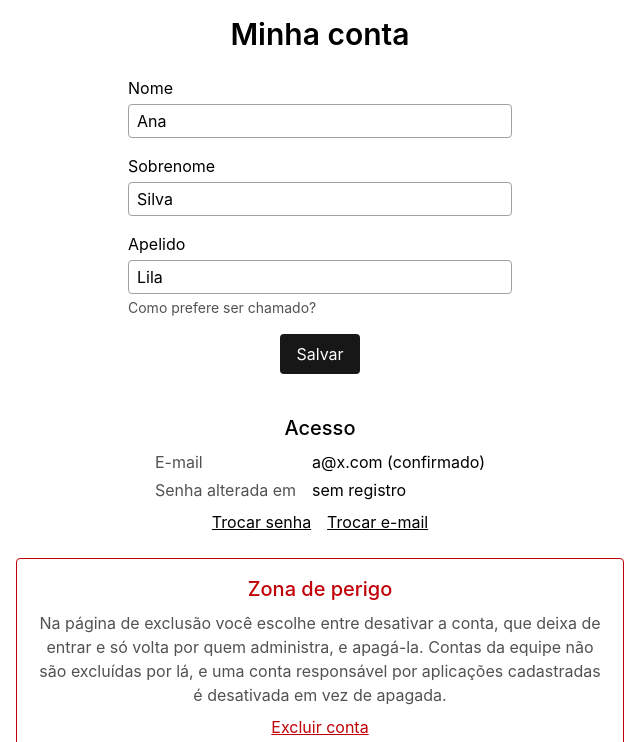
Test: Conta: formulário › T-04) com 200 os inputs mostram o corpo da resposta, e digitar apaga 'Alterações salvas.'
Expected: the heading "Minha conta" is shown, [230,16,410,52]
Replace the text in the field labelled "Nome" with "Digitado". click: x=320, y=121
box: [128,104,512,138]
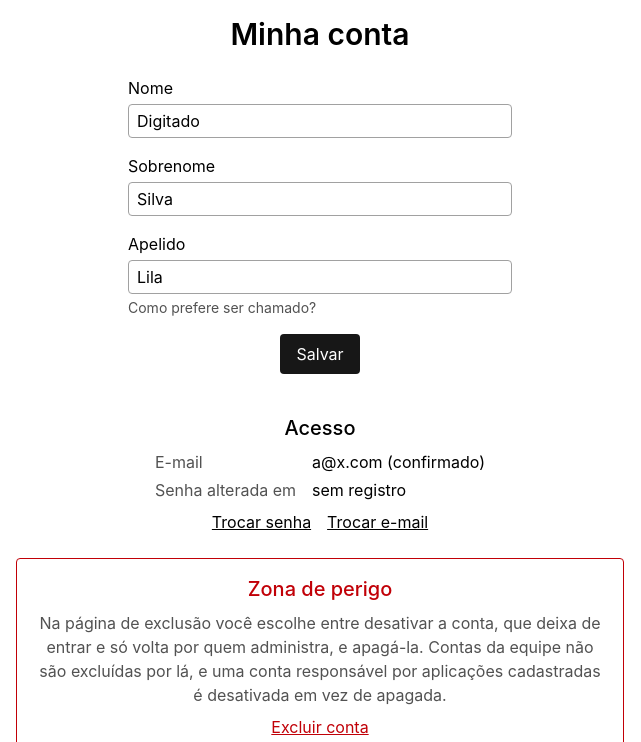
Click the button "Salvar". click: x=320, y=354
box: [280,334,360,374]
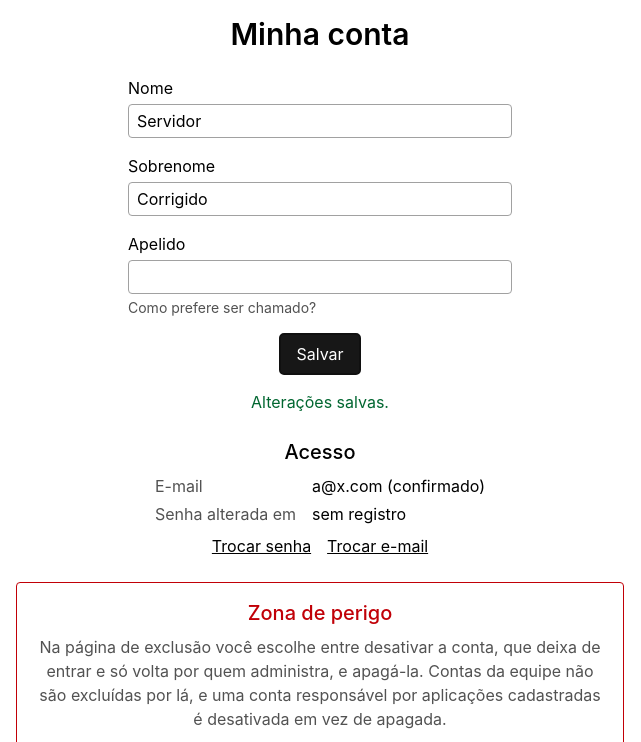
Expected: the text "Alterações salvas." is shown, [251,392,389,412]
Expected: the field labelled "Nome" holds "Servidor"
Expected: the field labelled "Sobrenome" holds "Corrigido", [128,182,512,216]
Replace the text in the field labelled "Nome" with "Outra". click: x=320, y=121
box: [128,104,512,138]
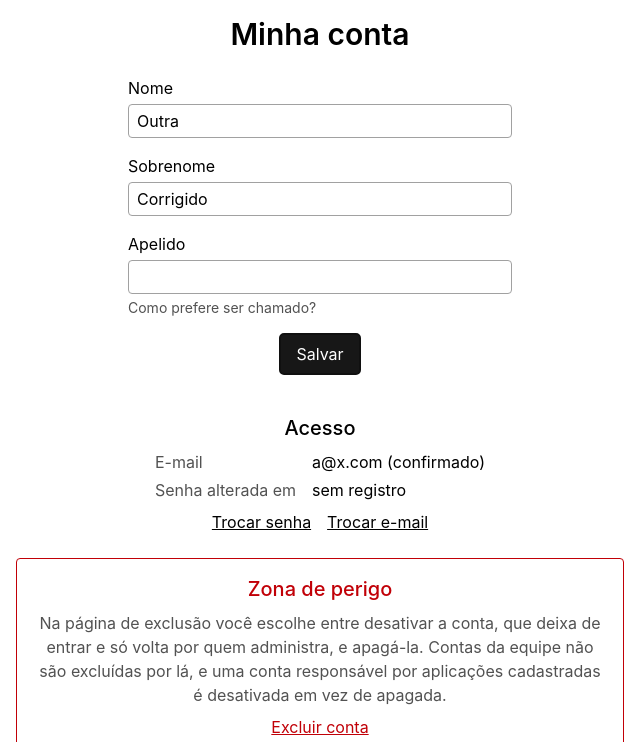
Expected: the text "Alterações salvas." is gone
